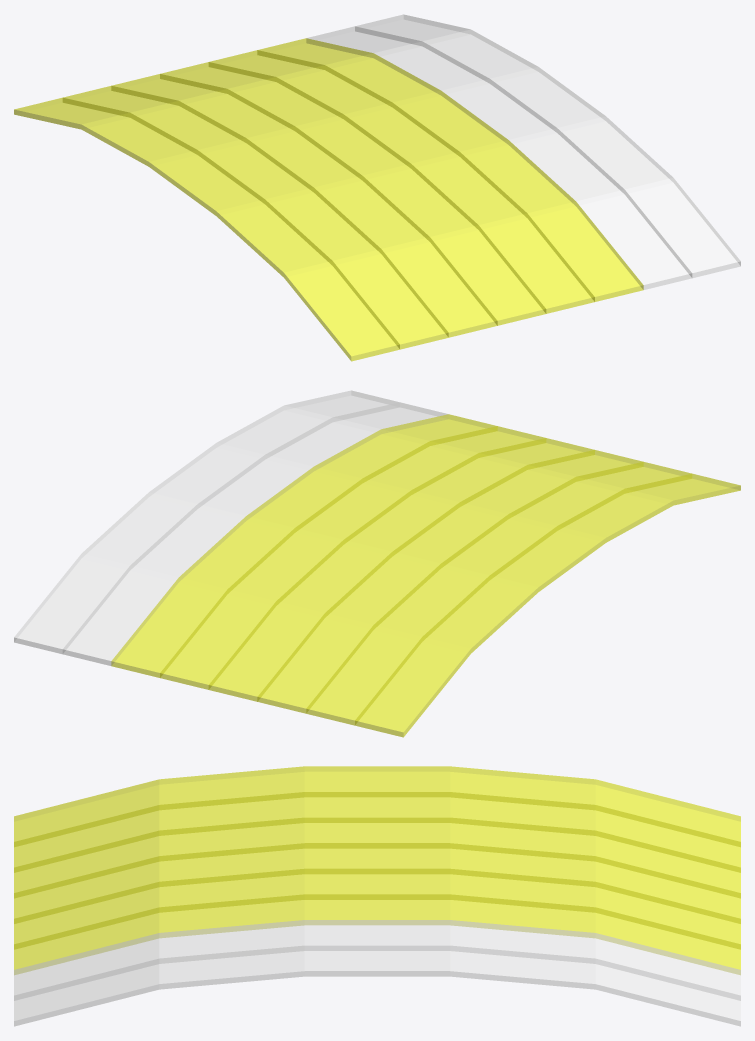
Rendered from alt_panels.obj.
The picture shows the model from 3 angles, top to bottom: view 1: azimuth 30°, elevation 25°; view 2: azimuth 150°, elevation 25°; view 3: azimuth 270°, elevation 25°; orthographic projection. The views are drawn at different scales.
Parts seen in each view (by area): view 1: Cube.004_Material, Cube.004_Material.001; view 2: Cube.004_Material, Cube.004_Material.001; view 3: Cube.004_Material, Cube.004_Material.001.
Boxes of the visible parts, bbox=[...] form: Cube.004_Material: bbox=[14, 38, 643, 361]; Cube.004_Material.001: bbox=[306, 14, 740, 289]; Cube.004_Material: bbox=[111, 414, 740, 737]; Cube.004_Material.001: bbox=[14, 390, 448, 665]; Cube.004_Material: bbox=[14, 766, 740, 974]; Cube.004_Material.001: bbox=[14, 920, 740, 1026].
Size of the model in its own units: 16 by 2.02 by 24.
